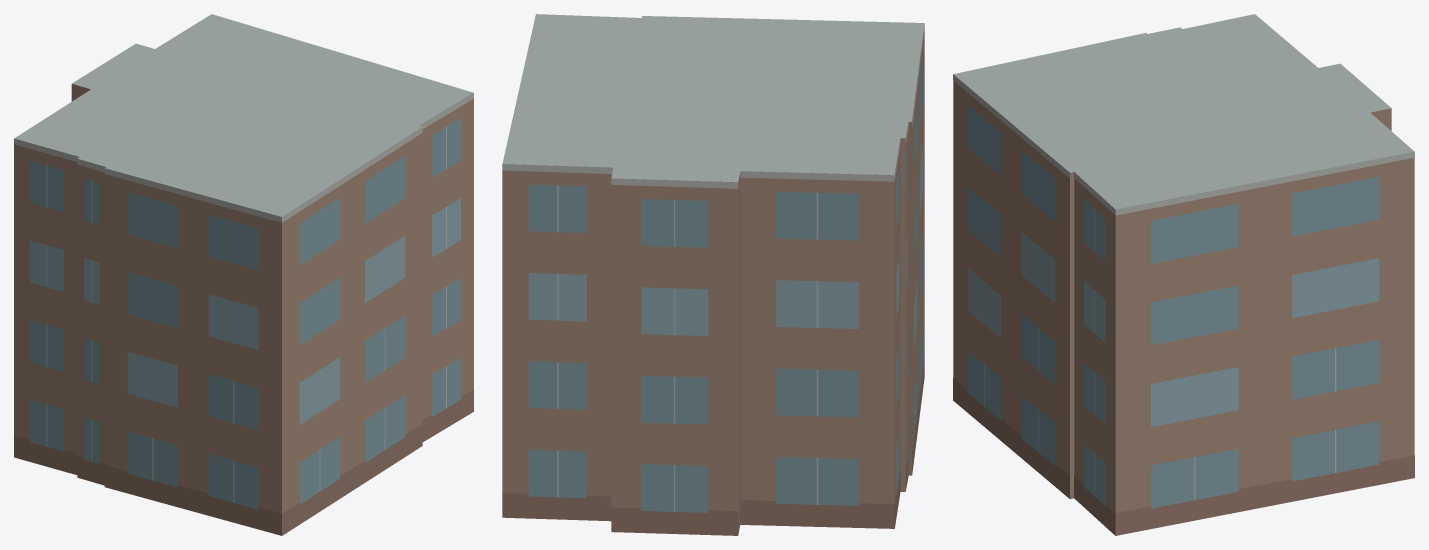
File: survey-upis-32726667.glb
3 renders of one model, left to right at view 1: azimuth 30°, elevation 25°; view 2: azimuth 150°, elevation 25°; view 3: azimuth 270°, elevation 25°, orthographic. The views are drawn at different scales.
Visible parts, largest first — view 1: survey-upis-32726667.tmp; view 2: survey-upis-32726667.tmp; view 3: survey-upis-32726667.tmp.
Boxes of the visible parts, <box> form: survey-upis-32726667.tmp: <box>14,14,473,535</box>; survey-upis-32726667.tmp: <box>502,14,924,535</box>; survey-upis-32726667.tmp: <box>953,14,1414,535</box>.
Bounding box in the file's own units: 17.04 × 13.25 × 16.99.
